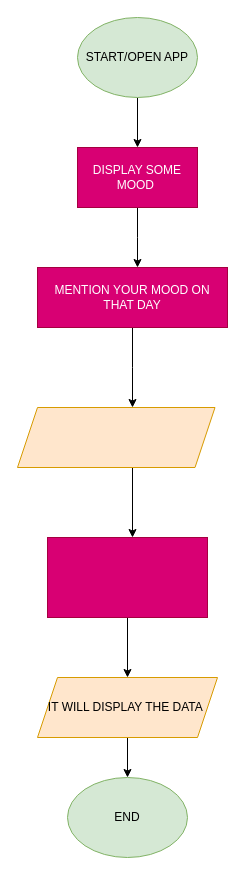
The diagram is 245 pixels wide and 875 high, and some of its shapes have lost their labels. The centre of each missing label's shape, as x and y in pixels:
"AND IT WILL BE CALCULATE THAT WEEK" belongs at point (115, 437).
"IT WILL SAVE THE DATA IN THE STORAGE" belongs at point (127, 577).
